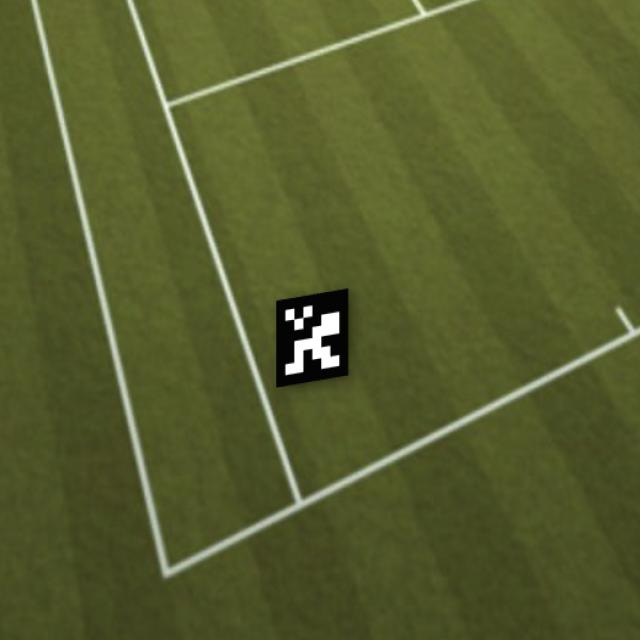marker: (261, 283, 361, 399)
